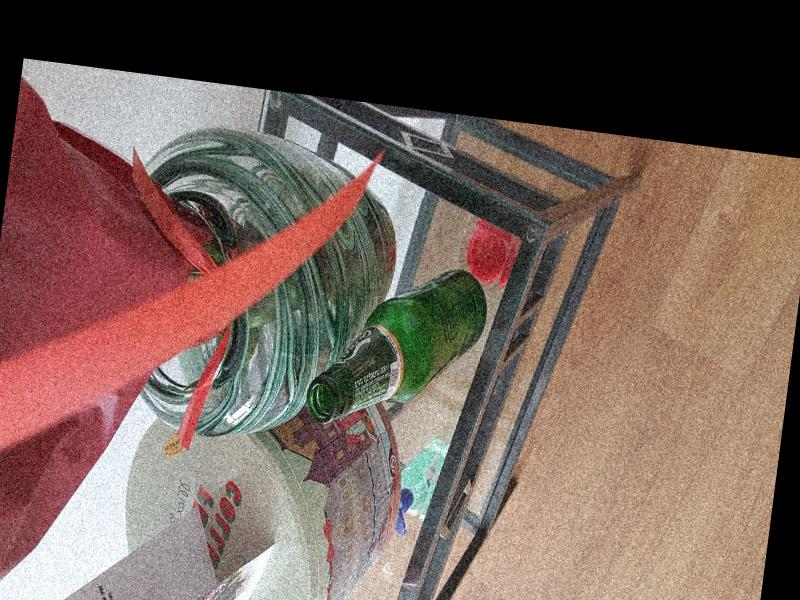Beer: (304, 250, 491, 441)
